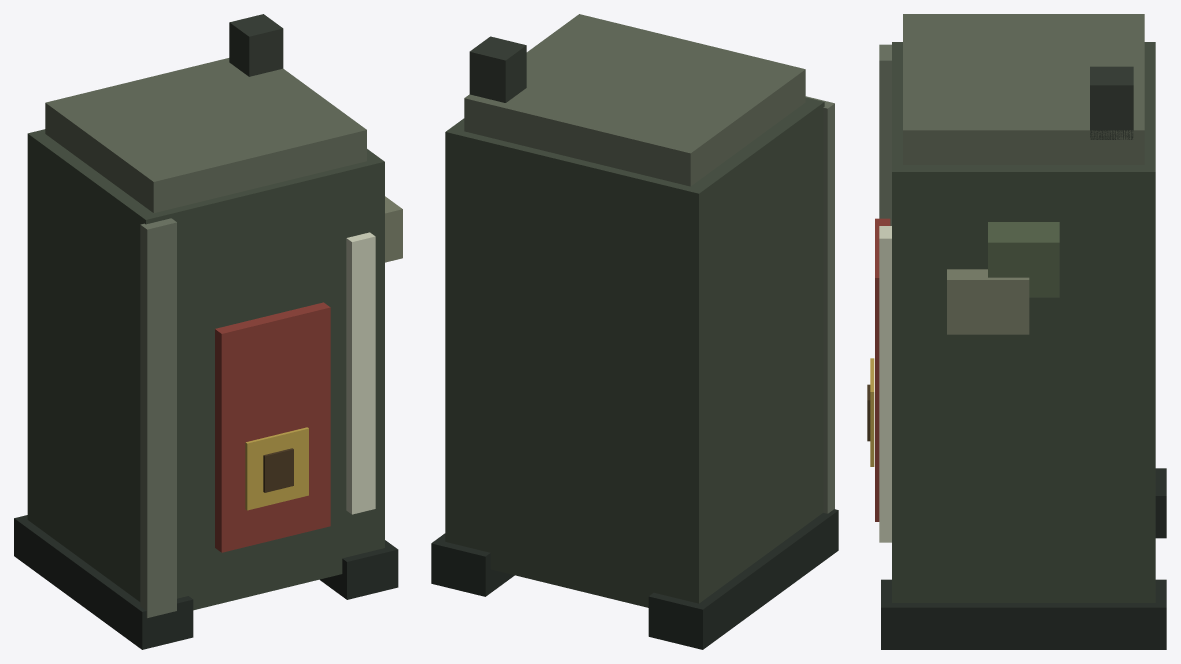
Rendered from CMU3DFuelTank.glb.
The picture shows the model from 3 angles, left to right: view 1: azimuth 30°, elevation 25°; view 2: azimuth 150°, elevation 25°; view 3: azimuth 270°, elevation 25°; orthographic projection. The views are drawn at different scales.
Visible parts, largest first — view 1: tank body, tank cap, red warning panel, front bar, gauge, left skid, hazard panel, filler neck, right skid, hazard center, tap spout; view 2: tank body, tank cap, left skid, front bar, filler neck, right skid; view 3: tank body, tank cap, right skid, tap spout, tap block, gauge, filler neck, front bar, red warning panel, left skid, hazard panel.
Part boxes in pixels (x1=…): tank body: x1=27, y1=129, x2=384, y2=610; tank cap: x1=45, y1=58, x2=366, y2=212; red warning panel: x1=215, y1=302, x2=330, y2=552; front bar: x1=140, y1=218, x2=176, y2=618; gauge: x1=346, y1=232, x2=375, y2=514; left skid: x1=14, y1=515, x2=193, y2=649; hazard panel: x1=245, y1=427, x2=308, y2=510; filler neck: x1=229, y1=14, x2=283, y2=76; right skid: x1=320, y1=540, x2=398, y2=599; hazard center: x1=263, y1=448, x2=293, y2=492; tap spout: x1=385, y1=196, x2=402, y2=262; tank body: x1=445, y1=97, x2=824, y2=607; tank cap: x1=464, y1=14, x2=805, y2=186; left skid: x1=648, y1=509, x2=838, y2=649; front bar: x1=805, y1=96, x2=834, y2=513; filler neck: x1=469, y1=36, x2=526, y2=102; right skid: x1=431, y1=533, x2=514, y2=596; tank body: x1=892, y1=42, x2=1155, y2=602; tank cap: x1=903, y1=14, x2=1144, y2=164; right skid: x1=881, y1=579, x2=1166, y2=649; tap spout: x1=947, y1=269, x2=1029, y2=334; tap block: x1=988, y1=222, x2=1059, y2=297; gauge: x1=879, y1=226, x2=891, y2=542; filler neck: x1=1090, y1=66, x2=1133, y2=139; front bar: x1=879, y1=44, x2=891, y2=225; red warning panel: x1=875, y1=218, x2=890, y2=521; left skid: x1=1155, y1=468, x2=1166, y2=538; hazard panel: x1=870, y1=358, x2=874, y2=466.
Bounding box in the file's own units: 0.68 × 1.11 × 0.545.
